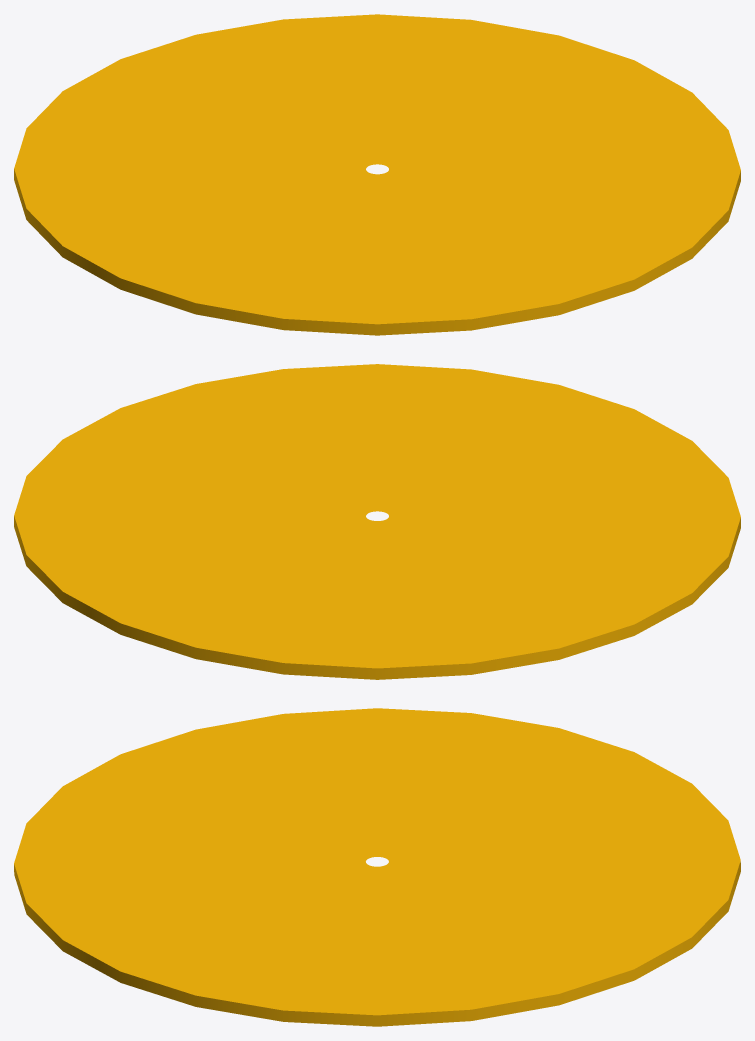
Rendered from SM_Record.FBX.
3 renders of one model, top to bottom at view 1: azimuth 30°, elevation 25°; view 2: azimuth 150°, elevation 25°; view 3: azimuth 270°, elevation 25°, orthographic.
Visible parts, largest first — view 1: SM_Record; view 2: SM_Record; view 3: SM_Record.
Boxes of the visible parts, <box> form: SM_Record: <box>14,14,740,335</box>; SM_Record: <box>14,364,740,679</box>; SM_Record: <box>14,708,740,1026</box>.
Size of the model in its own units: 17.18 by 0.3802 by 17.18.
